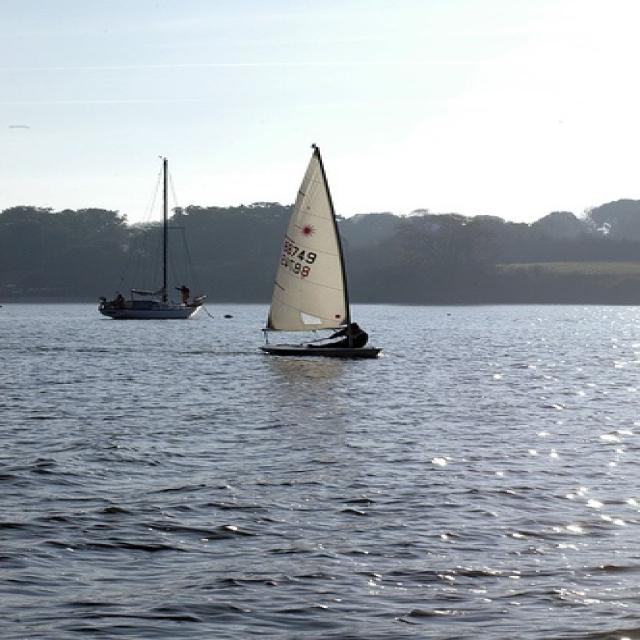boat: (256, 141, 386, 362), (96, 154, 214, 322)
